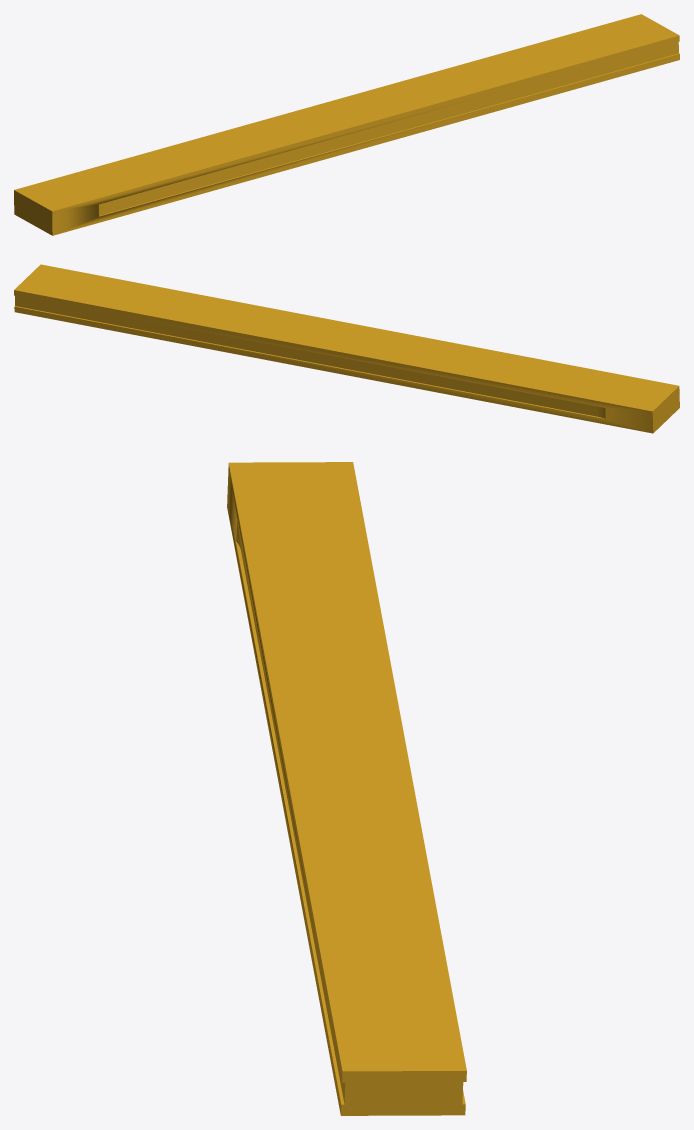
The model's file is original-15.obj.
3 renders of one model, top to bottom at view 1: azimuth 30°, elevation 25°; view 2: azimuth 150°, elevation 25°; view 3: azimuth 270°, elevation 25°, orthographic. The views are drawn at different scales.
Visible parts, largest first — view 1: Group14/mesh22/mesh22-geometry#mesh22-geometry; view 2: Group14/mesh22/mesh22-geometry#mesh22-geometry; view 3: Group14/mesh22/mesh22-geometry#mesh22-geometry.
Part boxes in pixels (left/top/right/bottom): Group14/mesh22/mesh22-geometry#mesh22-geometry: left=14, top=14, right=679, bottom=235; Group14/mesh22/mesh22-geometry#mesh22-geometry: left=14, top=264, right=679, bottom=433; Group14/mesh22/mesh22-geometry#mesh22-geometry: left=227, top=462, right=466, bottom=1115.
Size of the model in its own units: 0.7017 by 0.0336 by 0.1186.
